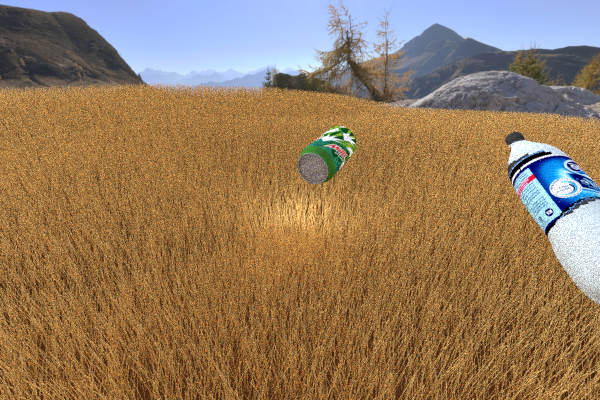Plastic Bottle: (502, 131, 600, 308), (307, 192, 420, 320), (523, 122, 588, 148)
